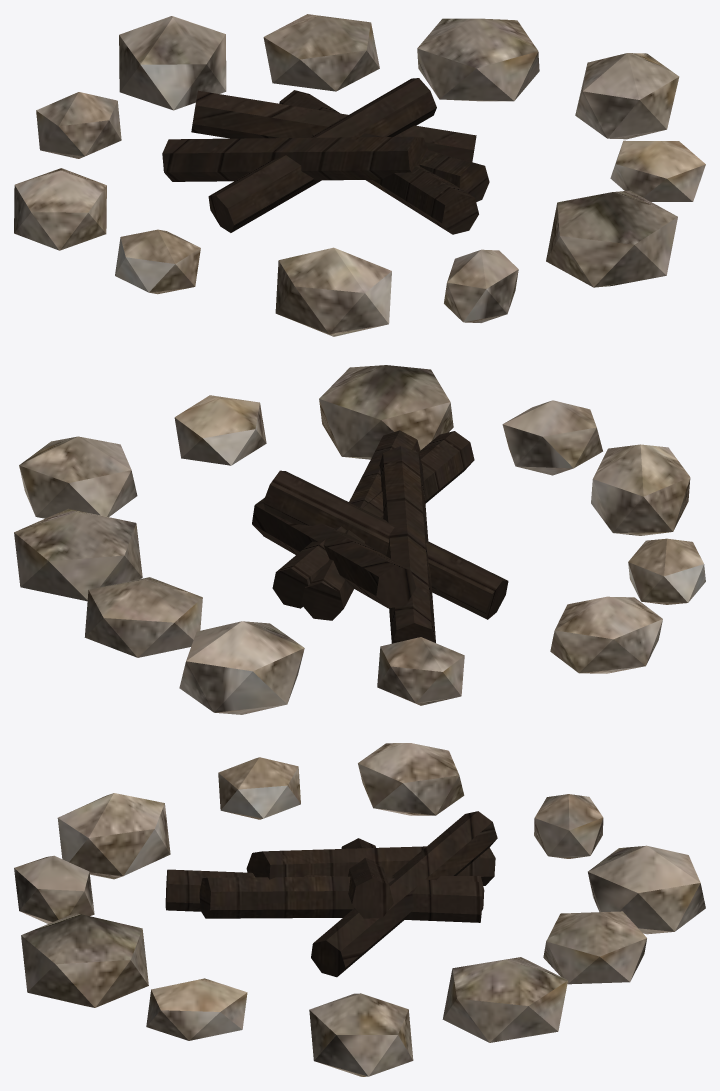
File: firering.glb
3 views of the same model, one above another, from view 1: azimuth 30°, elevation 25°; view 2: azimuth 150°, elevation 25°; view 3: azimuth 270°, elevation 25° (orthographic). The views are drawn at different scales.
Parts seen in each view (by area): view 1: firering; view 2: firering; view 3: firering.
Part boxes in pixels (x1=…): firering: x1=14, y1=14, x2=705, y2=336; firering: x1=14, y1=365, x2=705, y2=714; firering: x1=14, y1=743, x2=705, y2=1076.
Size of the model in its own units: 1.48 by 0.247 by 1.45.
2 materials, 2 textured.
